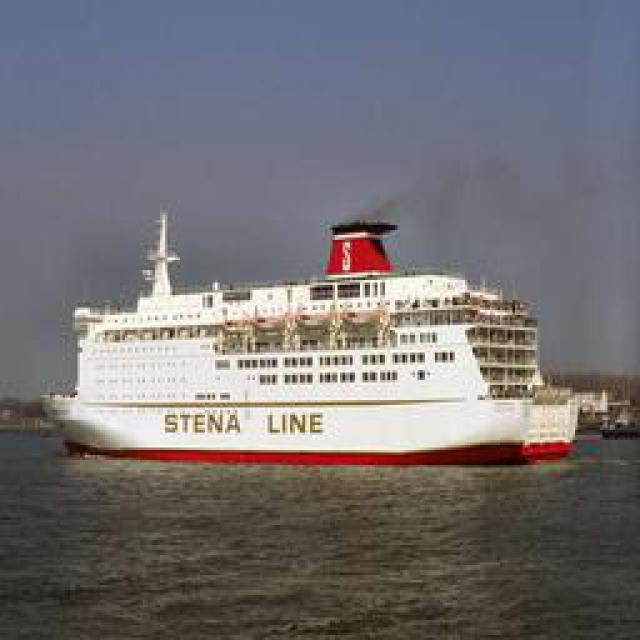Ship: (60, 207, 590, 470)
